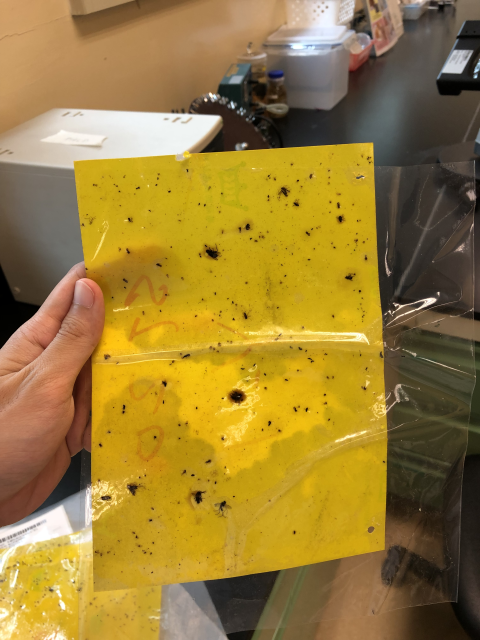DBM: (126, 483, 146, 497)
